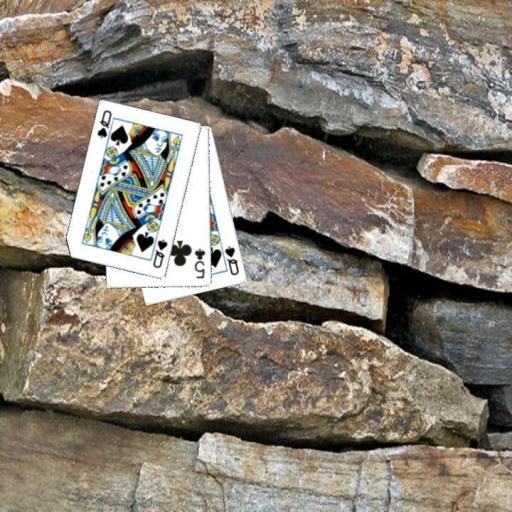card-corner: (150, 236, 169, 270), (94, 107, 113, 140), (222, 243, 240, 277), (191, 246, 207, 280)
